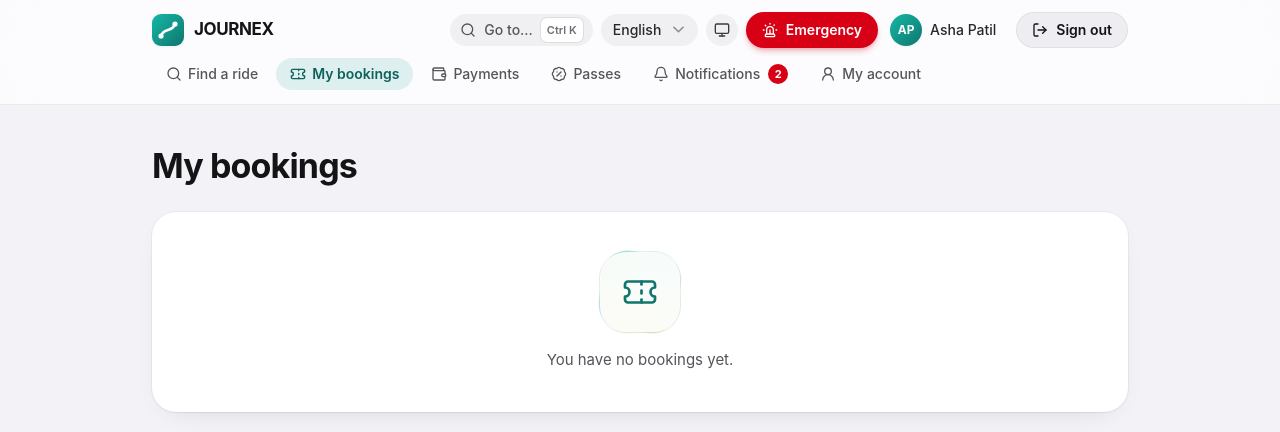
Test: the app in another language › switches language from the header, remembers it, and can switch back
Select "मराठी" in the dropdown named "Language": (649, 30) [601,14,698,46]
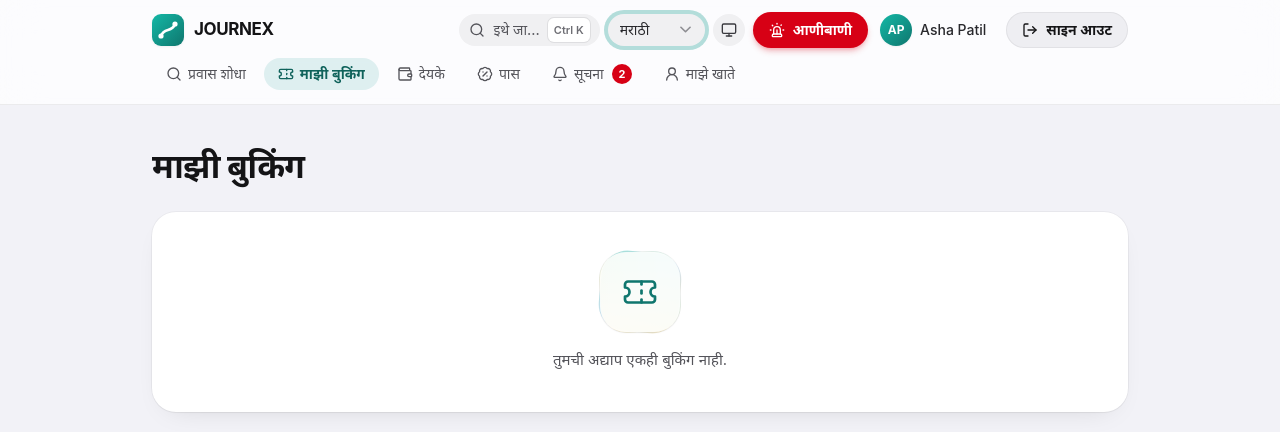
Expected: the heading "माझी बुकिंग" is shown, [152,145,304,186]
Select "English" in the dropdown named "भाषा": (656, 30) [608,14,705,46]
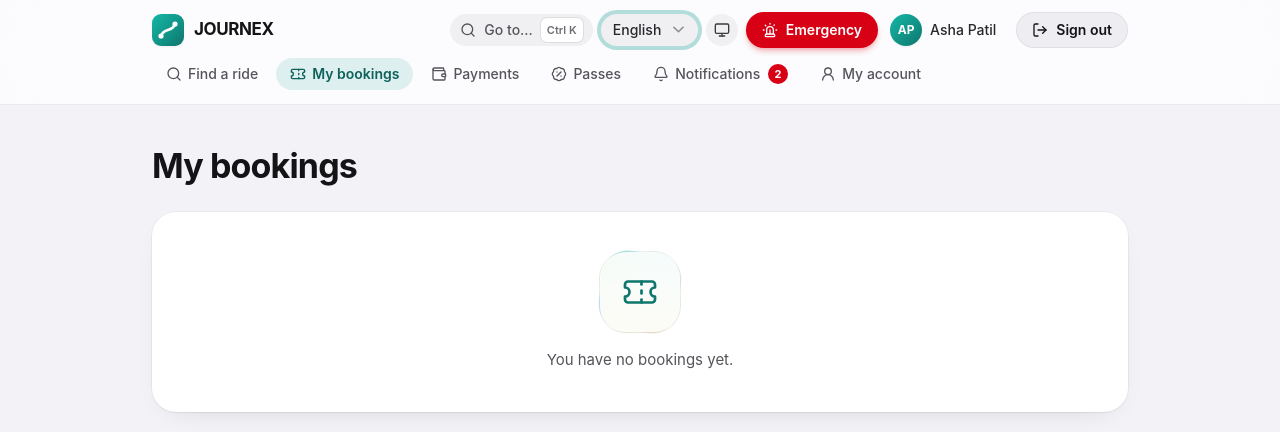
Expected: the heading "My bookings" is shown, [152,145,357,186]
